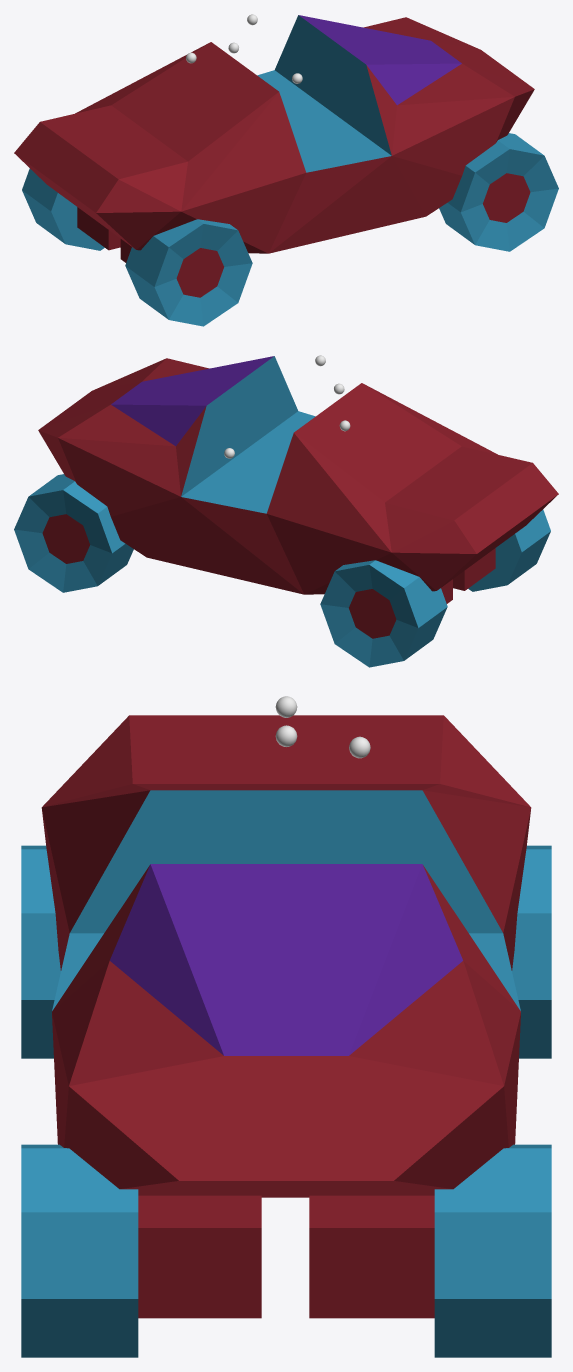
3 views of the same model, one above another, from view 1: azimuth 30°, elevation 25°; view 2: azimuth 150°, elevation 25°; view 3: azimuth 270°, elevation 25° (orthographic). The views are drawn at different scales.
Visible parts, largest first — view 1: @hull, @right back tire, @right front tire, @left back tire, @left back engine; view 2: @hull, @left back tire, @left front tire, @right back tire, @right back engine; view 3: @hull, @left front tire, @right front tire, @left front engine, @right front engine, @left back tire, @right back tire.
Boxes of the visible parts, x1,y1,x2,y2 form: @hull: [14, 15, 534, 253]; @right back tire: [125, 219, 252, 326]; @right front tire: [439, 133, 558, 251]; @left back tire: [22, 168, 104, 250]; @left back engine: [77, 207, 120, 250]; @hull: [38, 356, 558, 594]; @left back tire: [320, 560, 447, 667]; @left front tire: [14, 474, 133, 592]; @right back tire: [468, 509, 550, 591]; @right back engine: [453, 548, 495, 590]; @hull: [41, 715, 531, 1197]; @left front tire: [434, 1144, 551, 1357]; @right front tire: [21, 1144, 138, 1357]; @left front engine: [309, 1195, 434, 1318]; @right front engine: [138, 1195, 261, 1318]; @left back tire: [512, 845, 551, 1058]; @right back tire: [21, 845, 60, 1058].
Size of the model in its own units: 192 by 95.35 by 97.5.
